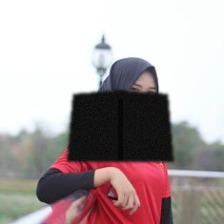Cadar_Niqab: (66, 55, 173, 161)
